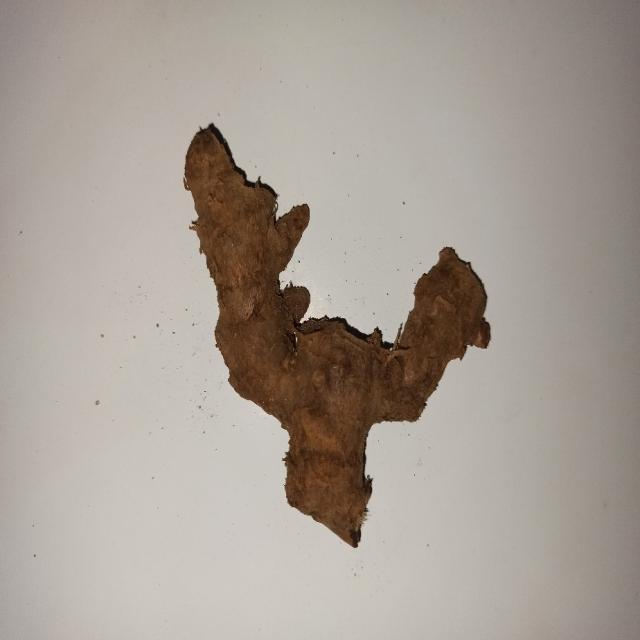ginger: (186, 133, 485, 547)
